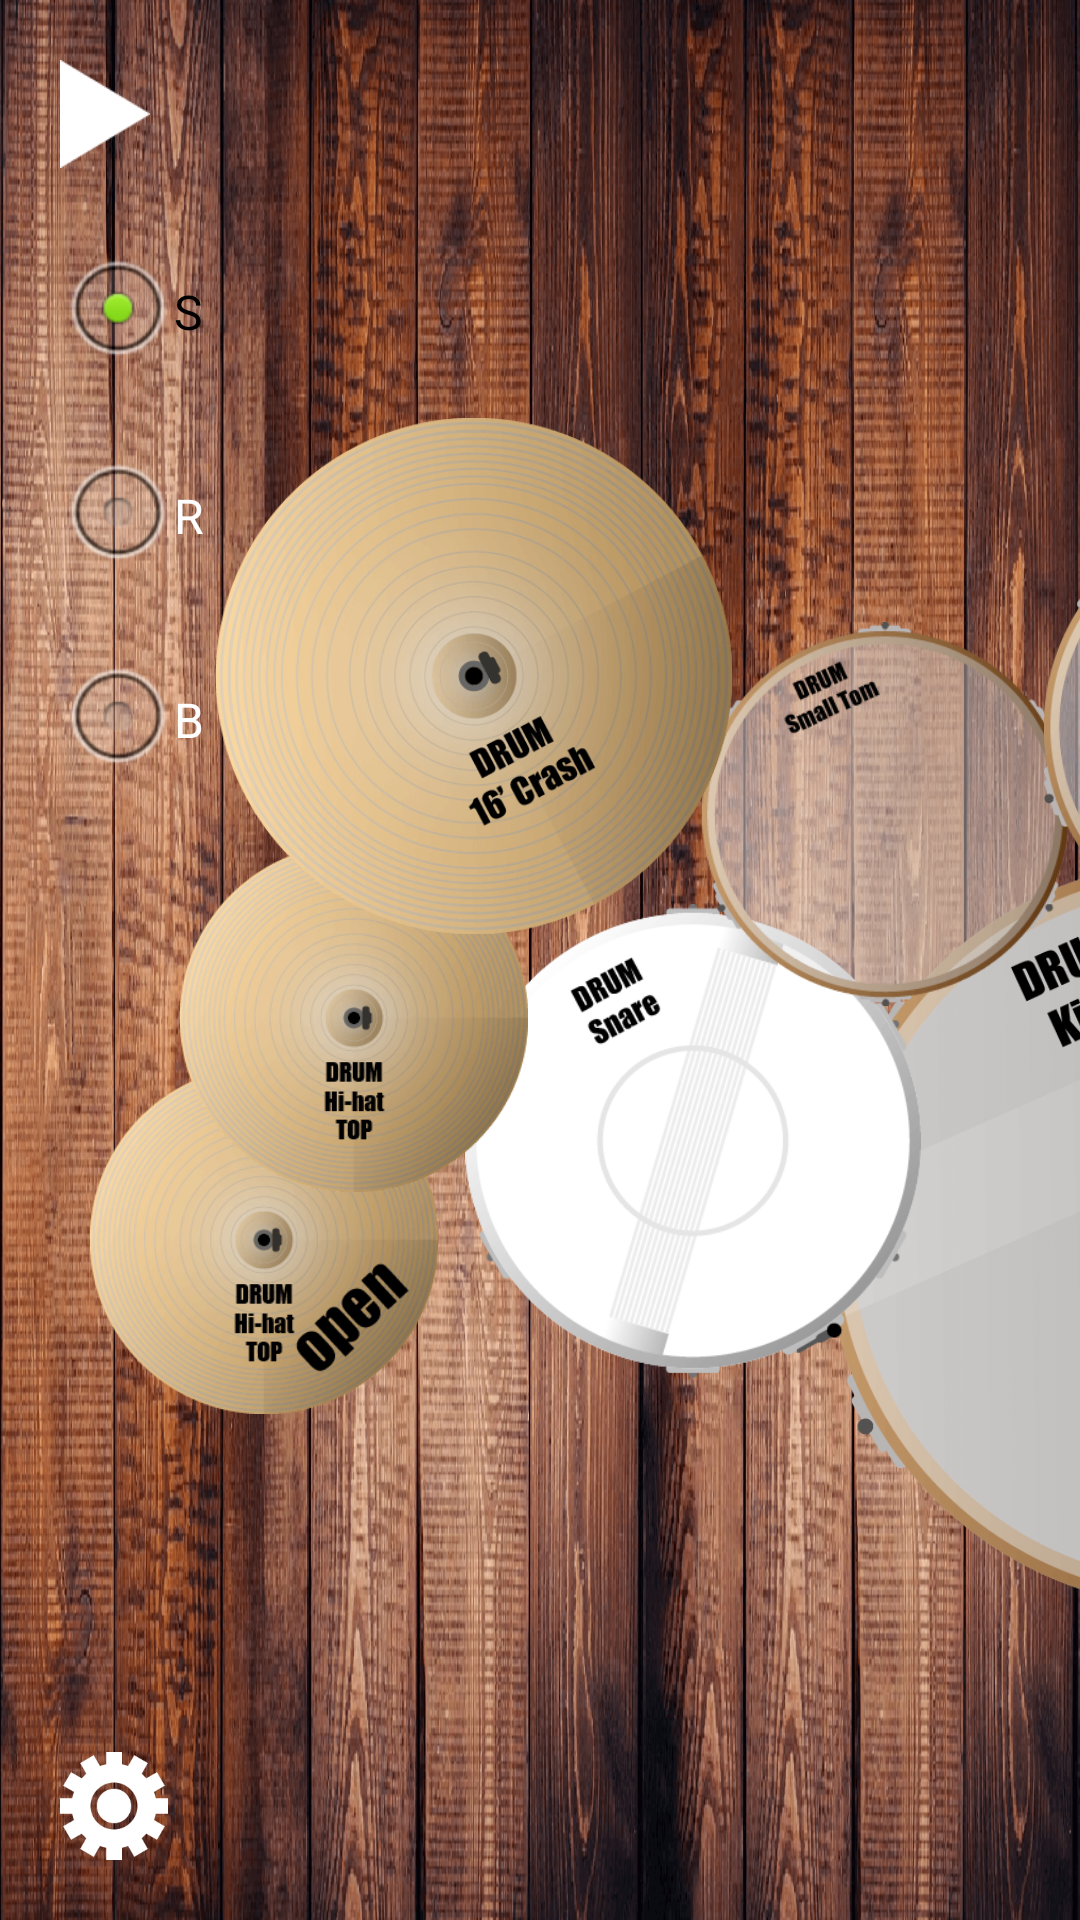

Locate icon controls on the screen. Image size 1080×1920, boxes as [left=x1, top=y1, right=x2, bottom=y2].
check play: [left=60, top=60, right=150, bottom=168]
